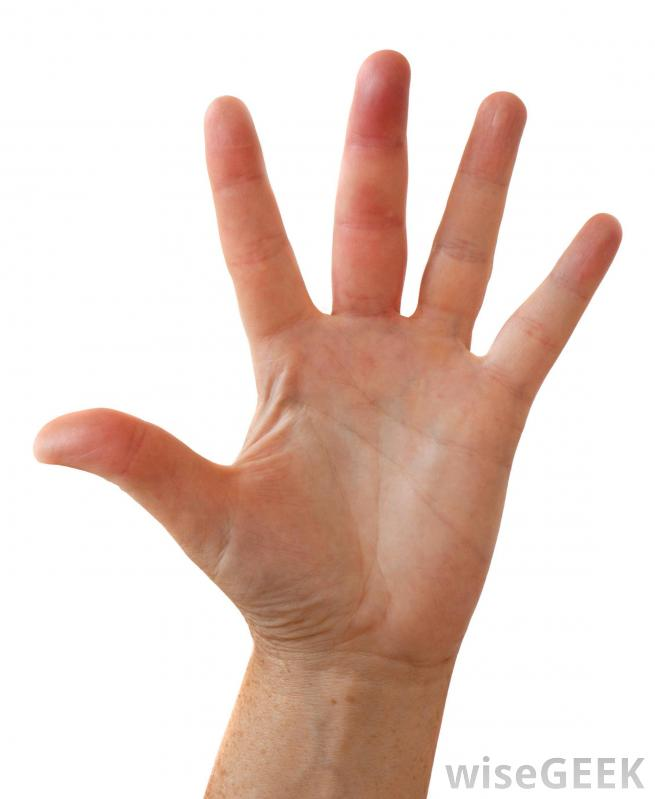finger: (196, 89, 335, 353), (414, 104, 531, 337), (476, 204, 632, 376), (330, 28, 408, 311)
